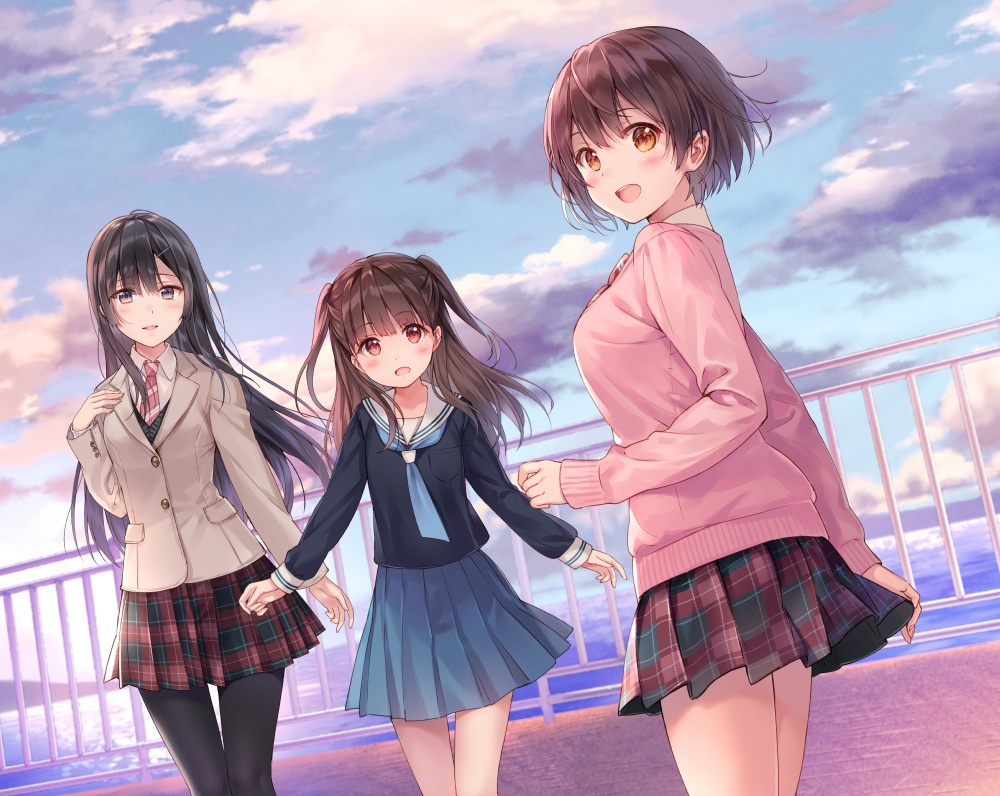纸片人正脸: (538, 22, 756, 233), (309, 245, 500, 402), (82, 207, 220, 362)
